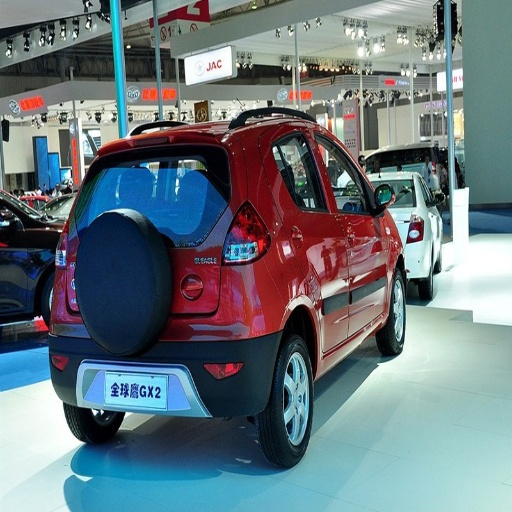back_bumper: (61, 264, 282, 413)
back_left_light: (54, 222, 80, 319)
back_right_door: (274, 129, 346, 354)
tailgate: (75, 265, 122, 342)
trunk: (123, 210, 229, 321)
